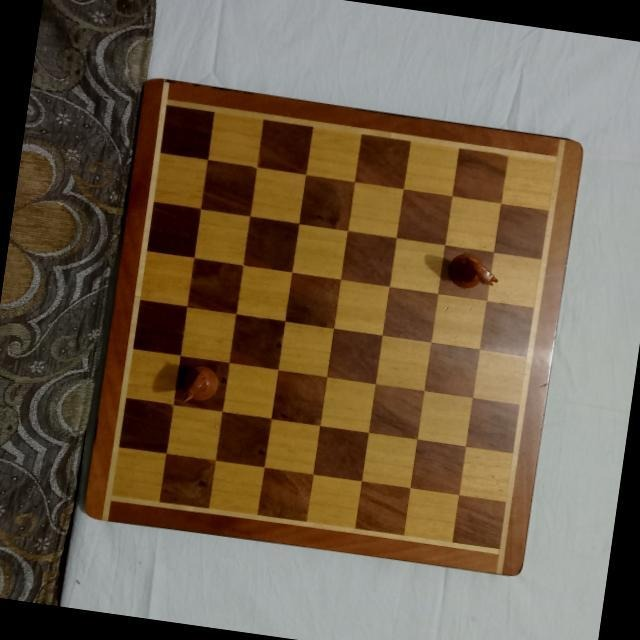white-knight: (444, 253, 503, 295), (174, 362, 221, 409)
